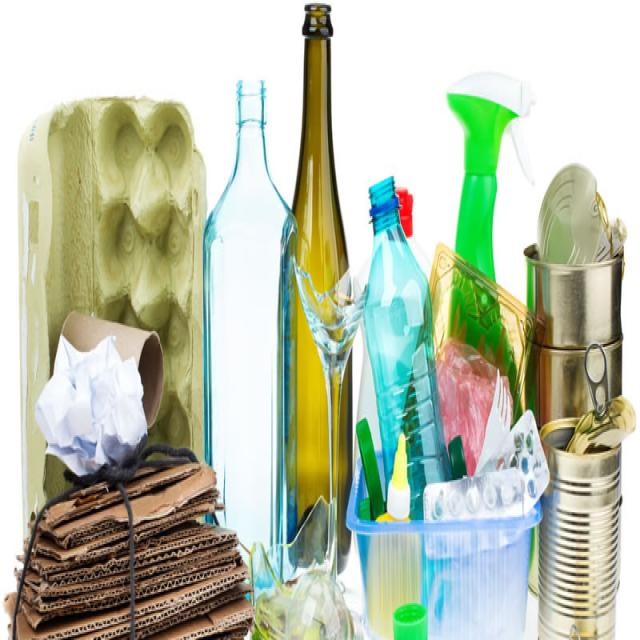cardboard: (27, 109, 197, 326), (41, 488, 238, 637)
glass: (214, 115, 296, 514), (305, 18, 348, 494)
metal: (535, 205, 621, 622)
paper: (50, 349, 135, 459)
plastic: (372, 218, 477, 477)
